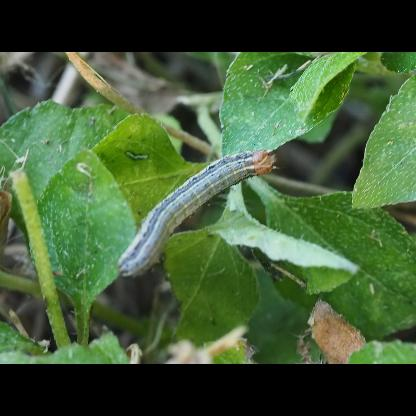Fall Armyworm Larvae: (114, 144, 288, 284)
